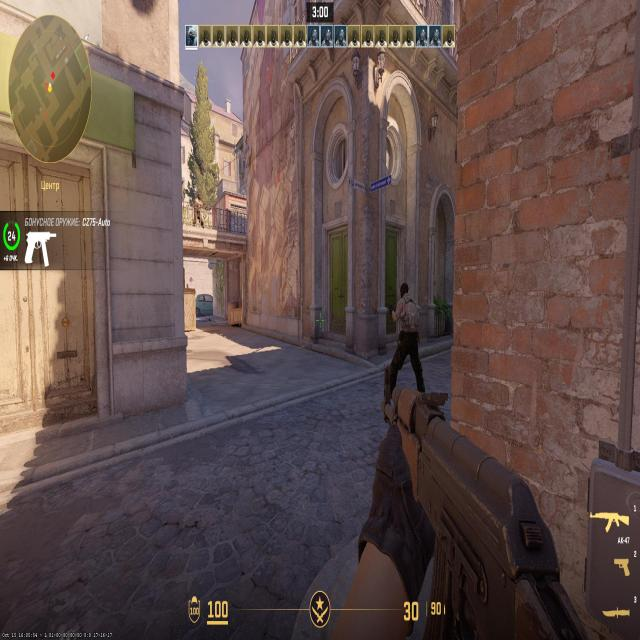T: (397, 283, 419, 383)
T_heat: (401, 280, 410, 301)
